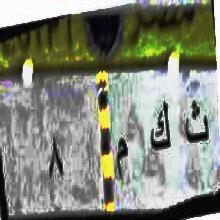8: (45, 130, 66, 191)
kaaf: (145, 97, 173, 164)
meem: (112, 126, 130, 190)
thaa: (184, 90, 210, 150)
